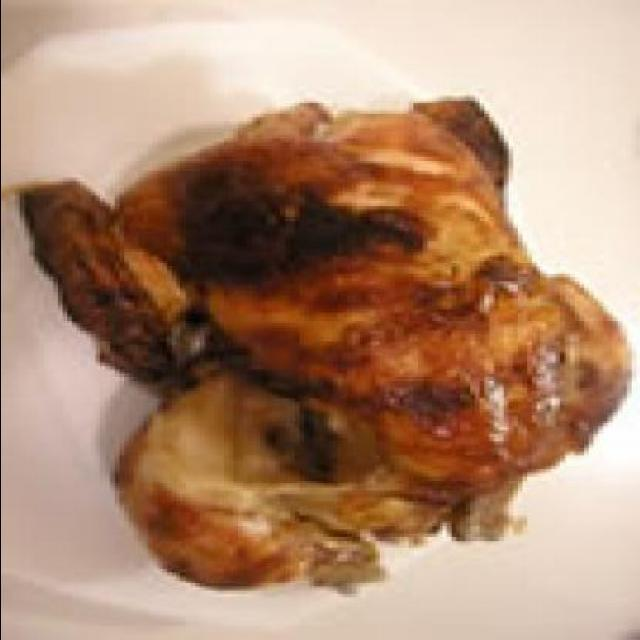Chicken roast: (60, 118, 602, 576)
